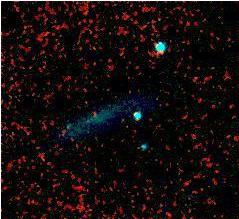star: (86, 109, 116, 139)
